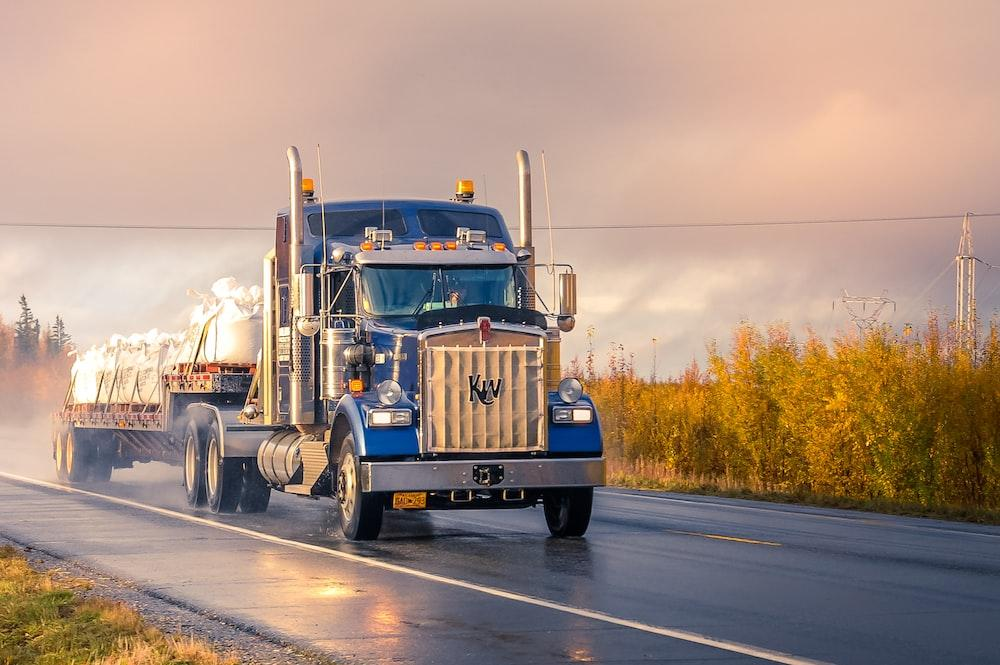truck: (53, 143, 605, 543)
